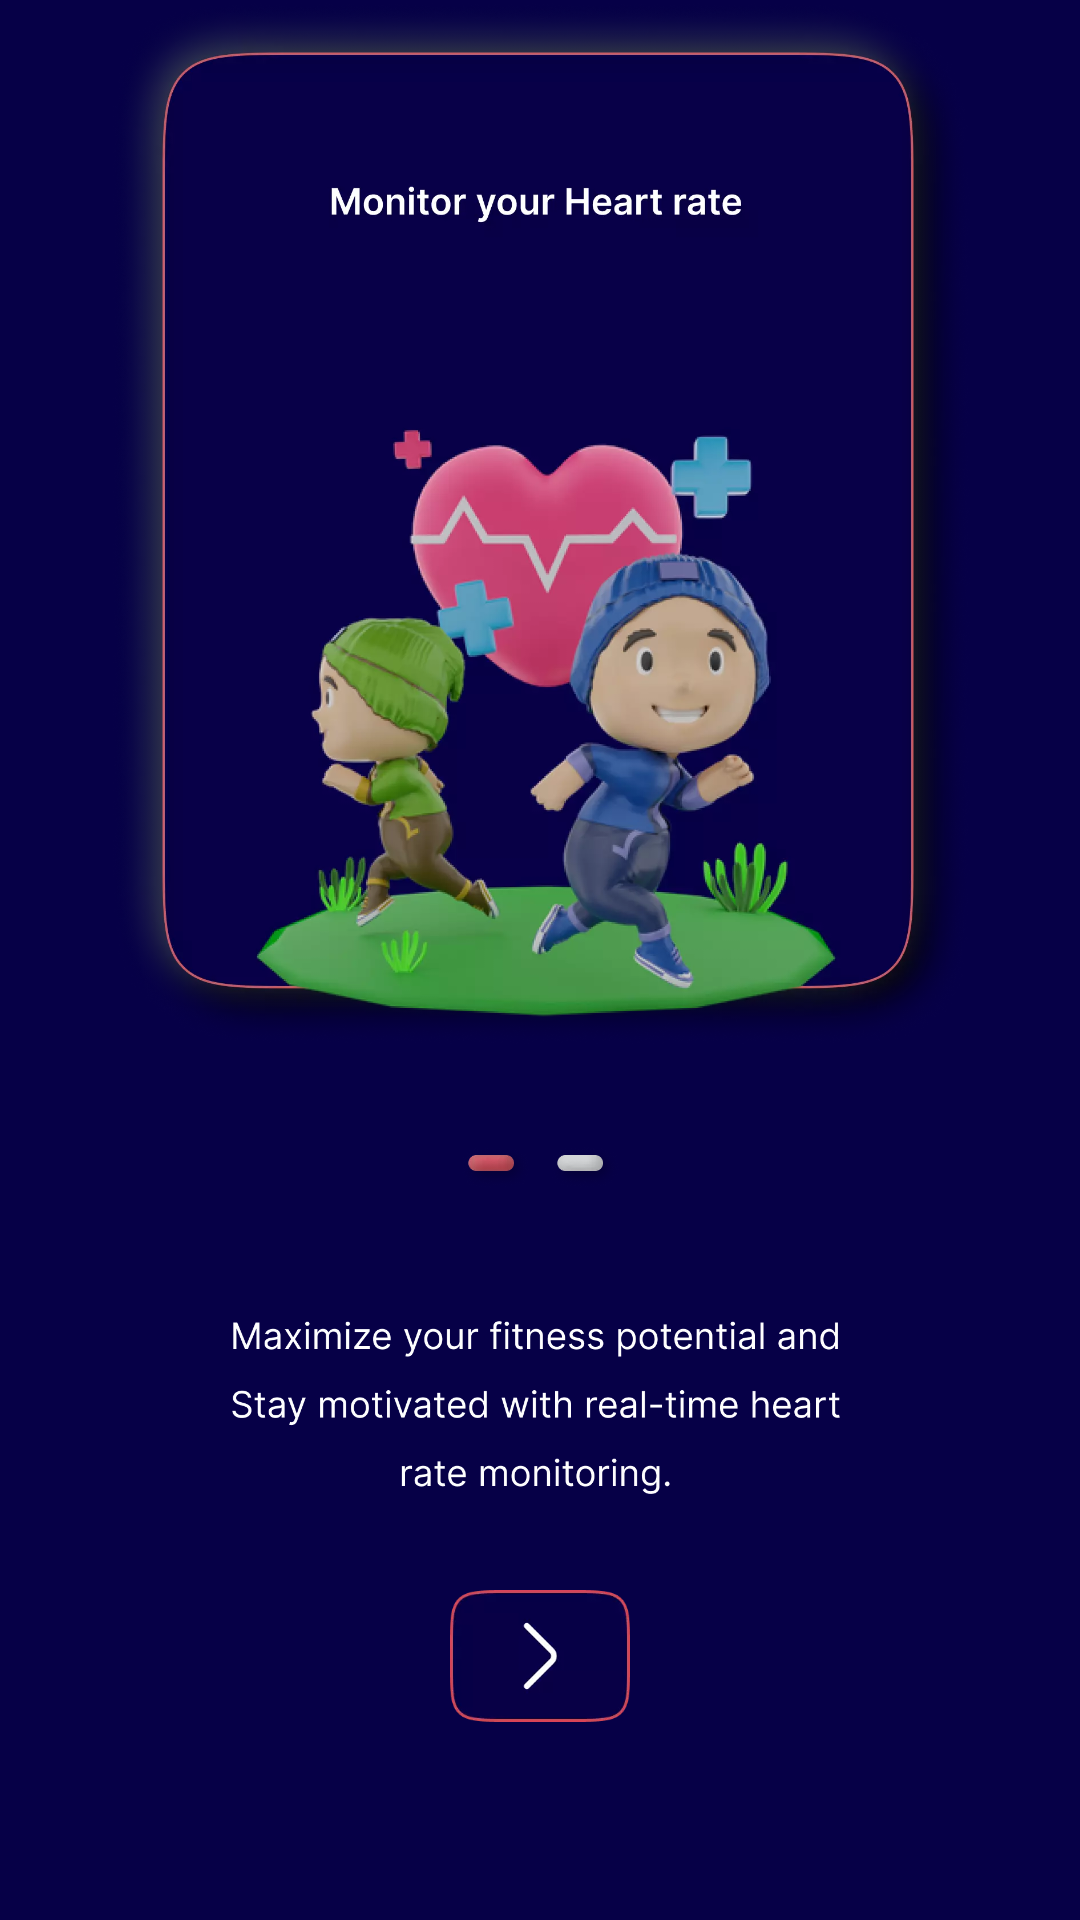

Icon bounding boxes for this 1080px×1920px phone screenshot, format (x1, y1, x2, y2):
next: (450, 1590, 630, 1722)
